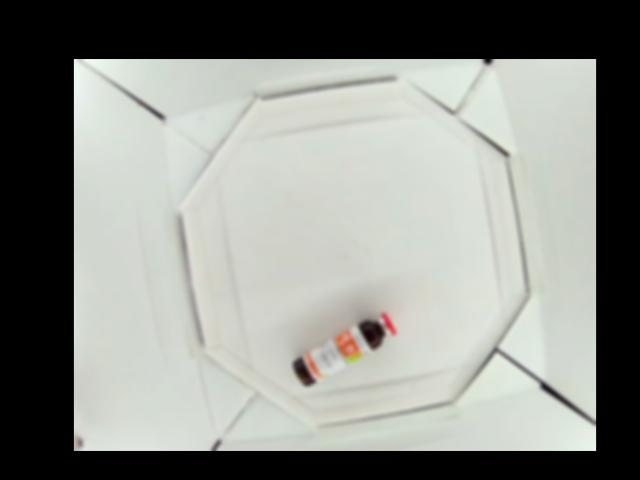Medicine: (294, 312, 396, 388)
